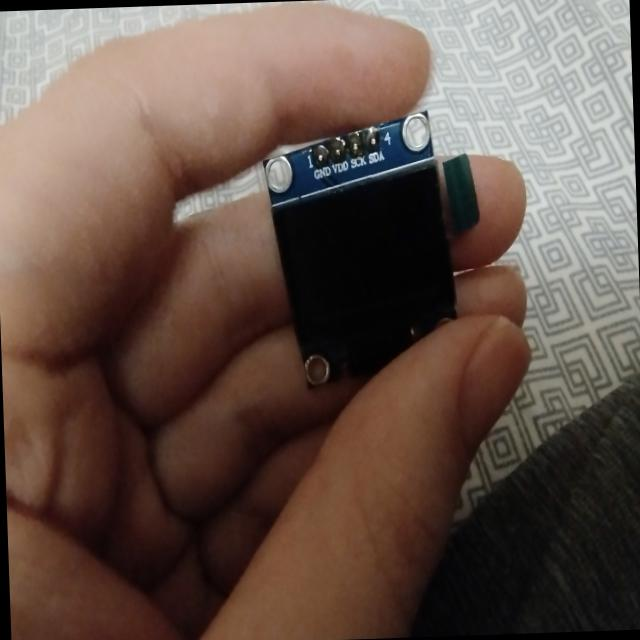oled: (260, 100, 473, 400)
